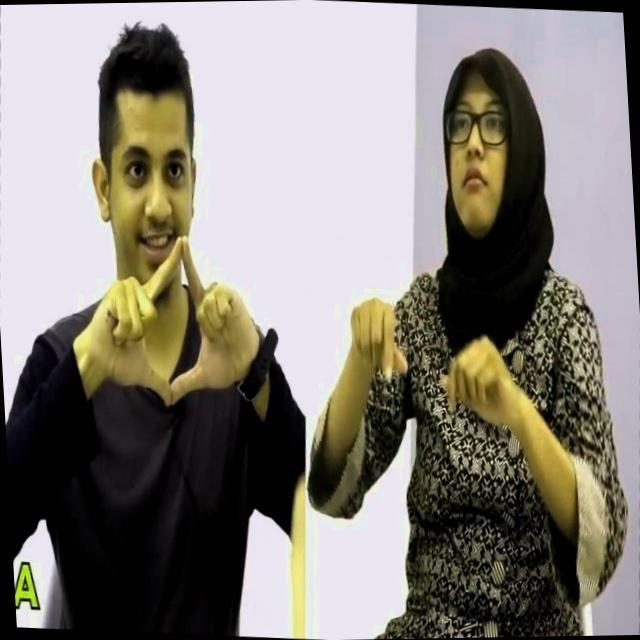A: (74, 224, 256, 412)
